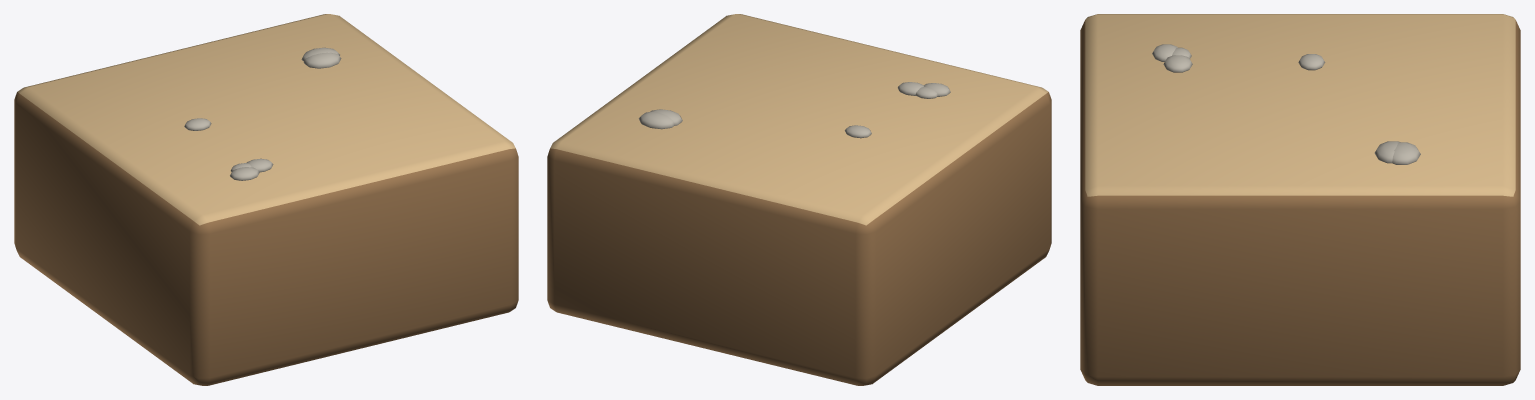
Rendered from tile-path.glb.
3 renders of one model, left to right at view 1: azimuth 30°, elevation 25°; view 2: azimuth 150°, elevation 25°; view 3: azimuth 270°, elevation 25°, orthographic. The views are drawn at different scales.
Visible parts, largest first — view 1: tile; view 2: tile; view 3: tile.
Boxes of the visible parts, bbox=[...] form: tile: bbox=[14, 14, 518, 385]; tile: bbox=[547, 14, 1051, 385]; tile: bbox=[1080, 14, 1520, 385].
Bounding box in the file's own units: 1 × 0.523 × 1.
